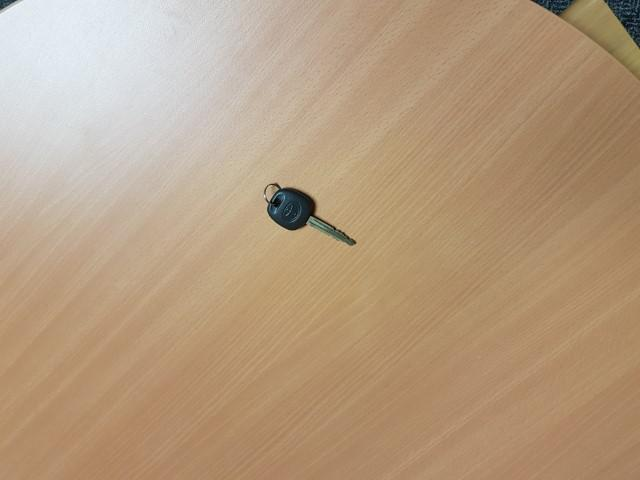key: (267, 186, 358, 246)
